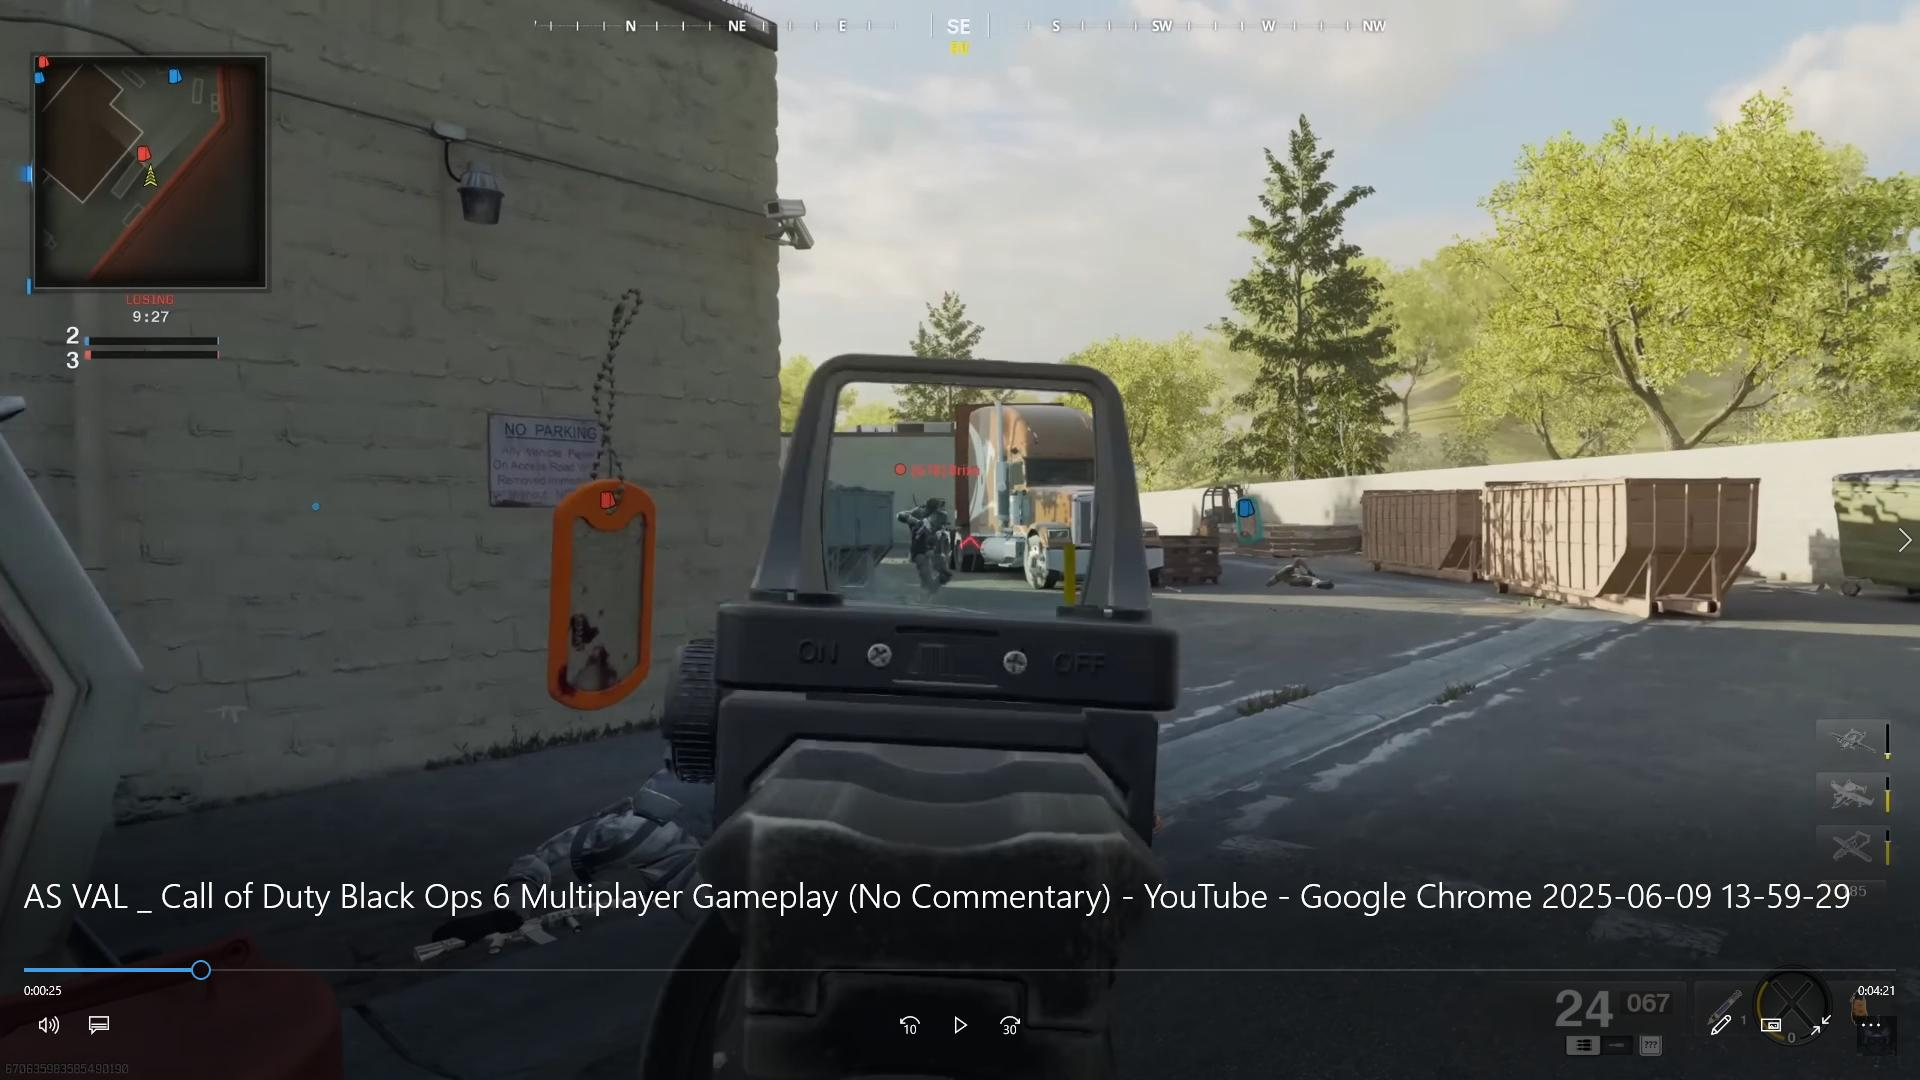Enemy: (887, 487, 957, 587)
